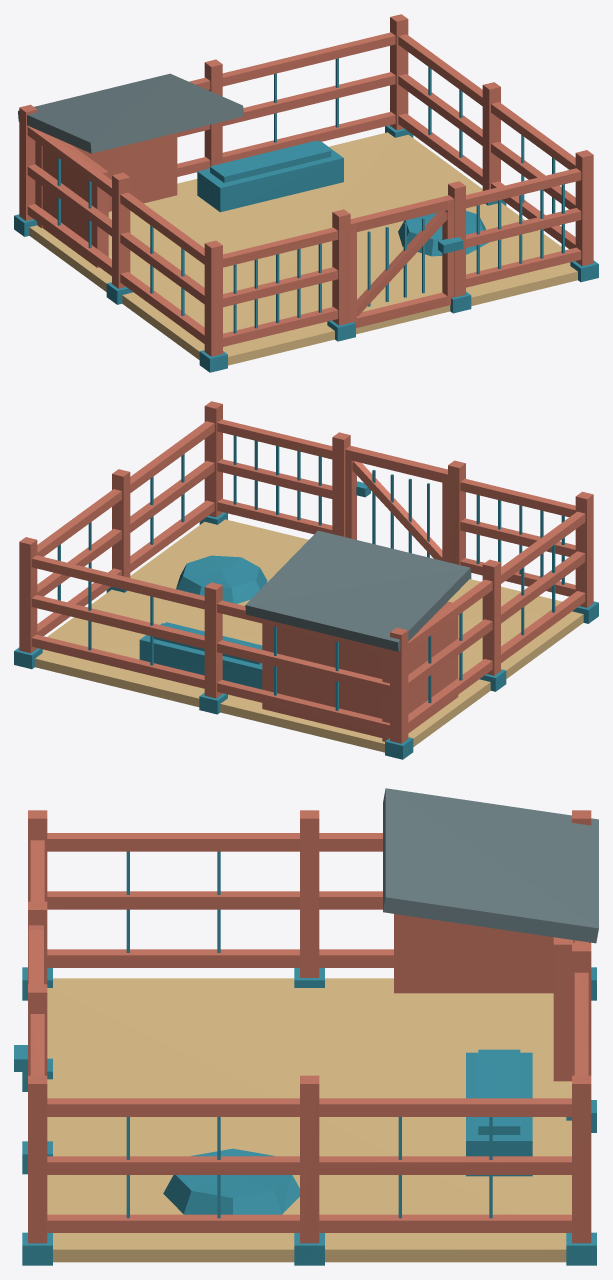
File: goose-pen.source.glb
3 renders of one model, top to bottom at view 1: azimuth 30°, elevation 25°; view 2: azimuth 150°, elevation 25°; view 3: azimuth 270°, elevation 25°, orthographic. The views are drawn at different scales.
Visible parts, largest first — view 1: goose-pen-compacted-earth-floor-mesh, goose-pen-shelter-canopy-mesh, goose-pen-long-water-trough-mesh, goose-pen-shelter-back-wall-mesh, goose-pen-shelter-side-wall-mesh, goose-pen-right-rail-3-mesh, goose-pen-left-rail-1-mesh, goose-pen-left-rail-2-mesh, goose-pen-left-rail-3-mesh, goose-pen-rear-rail-1-mesh, goose-pen-rear-rail-3-mesh, goose-pen-right-rail-2-mesh (+25 smaller); view 2: goose-pen-compacted-earth-floor-mesh, goose-pen-shelter-canopy-mesh, goose-pen-shelter-back-wall-mesh, goose-pen-rear-rail-2-mesh, goose-pen-rear-rail-1-mesh, goose-pen-rear-rail-3-mesh, goose-pen-shelter-side-wall-mesh, goose-pen-shallow-feed-pan-mesh, goose-pen-right-rail-3-mesh, goose-pen-left-rail-2-mesh, goose-pen-left-rail-1-mesh, goose-pen-left-rail-3-mesh (+24 smaller); view 3: goose-pen-compacted-earth-floor-mesh, goose-pen-shelter-canopy-mesh, goose-pen-shelter-side-wall-mesh, goose-pen-right-rail-3-mesh, goose-pen-right-rail-2-mesh, goose-pen-right-rail-1-mesh, goose-pen-left-rail-1-mesh, goose-pen-left-rail-3-mesh, goose-pen-left-rail-2-mesh, goose-pen-shallow-feed-pan-mesh, goose-pen-front-right-fence-post-mesh, goose-pen-rear-right-fence-post-mesh (+16 smaller).
Part boxes in pixels (bbox=[...]): goose-pen-compacted-earth-floor-mesh: bbox=[29, 132, 577, 365]; goose-pen-shelter-canopy-mesh: bbox=[18, 73, 243, 153]; goose-pen-long-water-trough-mesh: bbox=[197, 141, 343, 212]; goose-pen-shelter-back-wall-mesh: bbox=[35, 133, 177, 228]; goose-pen-shelter-side-wall-mesh: bbox=[42, 136, 108, 267]; goose-pen-right-rail-3-mesh: bbox=[398, 34, 575, 169]; goose-pen-left-rail-1-mesh: bbox=[27, 204, 204, 343]; goose-pen-left-rail-2-mesh: bbox=[27, 164, 204, 304]; goose-pen-left-rail-3-mesh: bbox=[27, 126, 204, 264]; goose-pen-rear-rail-1-mesh: bbox=[177, 111, 395, 176]; goose-pen-rear-rail-3-mesh: bbox=[189, 32, 395, 89]; goose-pen-right-rail-2-mesh: bbox=[398, 74, 575, 209]; goose-pen-compacted-earth-floor-mesh: bbox=[35, 519, 583, 752]; goose-pen-shelter-canopy-mesh: bbox=[245, 530, 471, 651]; goose-pen-shelter-back-wall-mesh: bbox=[262, 623, 382, 737]; goose-pen-rear-rail-2-mesh: bbox=[31, 595, 389, 694]; goose-pen-rear-rail-1-mesh: bbox=[31, 634, 389, 733]; goose-pen-rear-rail-3-mesh: bbox=[31, 555, 389, 654]; goose-pen-shelter-side-wall-mesh: bbox=[382, 601, 458, 741]; goose-pen-shallow-feed-pan-mesh: bbox=[176, 555, 267, 603]; goose-pen-right-rail-3-mesh: bbox=[37, 421, 214, 556]; goose-pen-left-rail-2-mesh: bbox=[408, 551, 585, 691]; goose-pen-left-rail-1-mesh: bbox=[408, 591, 585, 730]; goose-pen-left-rail-3-mesh: bbox=[408, 511, 585, 651]; goose-pen-compacted-earth-floor-mesh: bbox=[47, 978, 571, 1262]; goose-pen-shelter-canopy-mesh: bbox=[383, 788, 598, 943]; goose-pen-shelter-side-wall-mesh: bbox=[394, 914, 574, 993]; goose-pen-right-rail-3-mesh: bbox=[47, 1098, 571, 1116]; goose-pen-right-rail-2-mesh: bbox=[47, 1156, 571, 1174]; goose-pen-right-rail-1-mesh: bbox=[47, 1214, 571, 1232]; goose-pen-left-rail-1-mesh: bbox=[47, 949, 393, 967]; goose-pen-left-rail-3-mesh: bbox=[47, 833, 382, 851]; goose-pen-left-rail-2-mesh: bbox=[47, 891, 382, 909]; goose-pen-shallow-feed-pan-mesh: bbox=[163, 1148, 299, 1214]; goose-pen-front-right-fence-post-mesh: bbox=[28, 1075, 47, 1243]; goose-pen-rear-right-fence-post-mesh: bbox=[572, 1075, 591, 1243].
Size of the model in its own units: 4.72 by 1.6 by 4.19.
